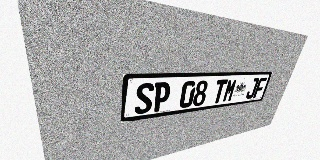0: (178, 81, 197, 108)
8: (192, 80, 209, 107)
F: (253, 77, 267, 98)
J: (245, 78, 260, 99)
M: (222, 79, 238, 102)
P: (152, 82, 171, 112)
S: (134, 82, 155, 115)
T: (211, 79, 228, 104)
